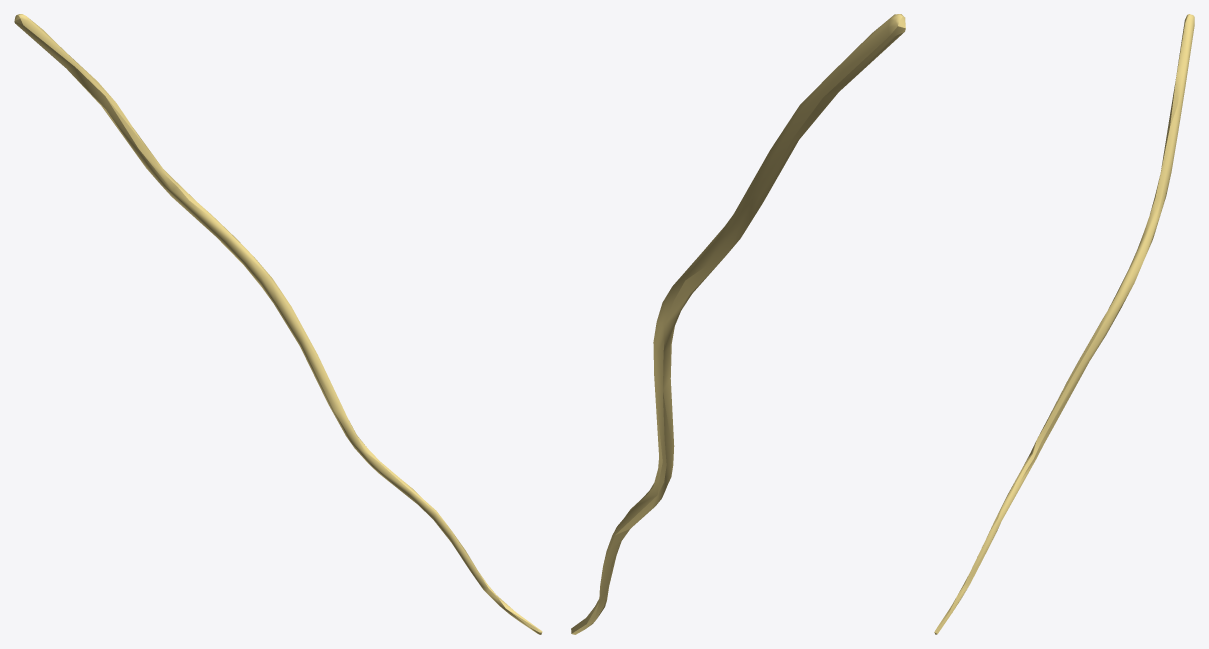
File: fma65340_fj4287.glb
3 views of the same model, side by side, from view 1: azimuth 30°, elevation 25°; view 2: azimuth 150°, elevation 25°; view 3: azimuth 270°, elevation 25° (orthographic). The views are drawn at different scales.
Parts seen in each view (by area): view 1: FMA65340_FJ4287; view 2: FMA65340_FJ4287; view 3: FMA65340_FJ4287.
Boxes of the visible parts, left/top/right/bottom form: FMA65340_FJ4287: left=14, top=14, right=542, bottom=634; FMA65340_FJ4287: left=571, top=14, right=905, bottom=634; FMA65340_FJ4287: left=934, top=14, right=1194, bottom=634.
Size of the model in its own units: 0.0352 by 0.0541 by 0.0267.
